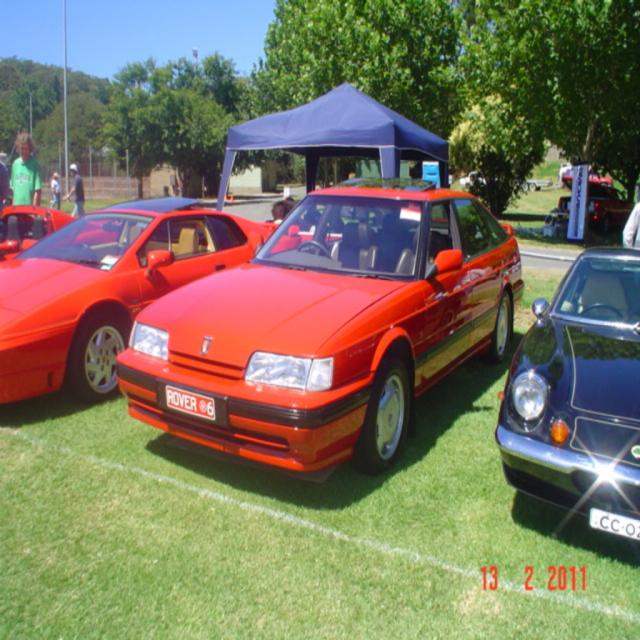car: (115, 175, 524, 484)
